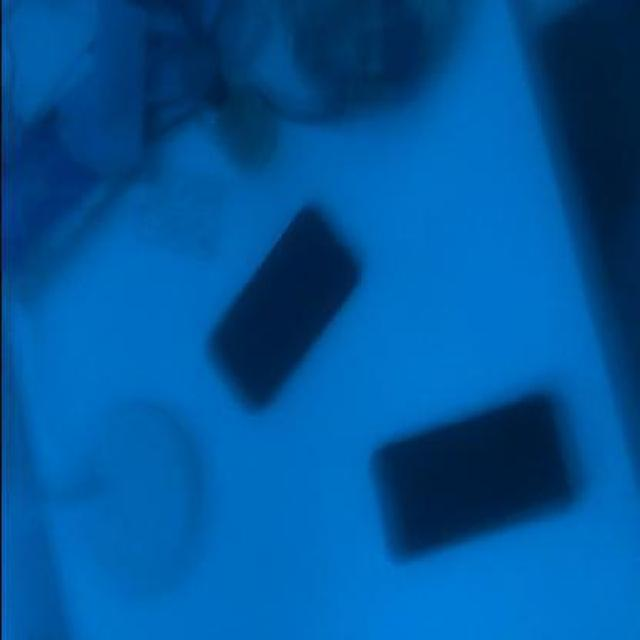mobile-phone: (370, 391, 572, 560), (208, 205, 362, 409)
